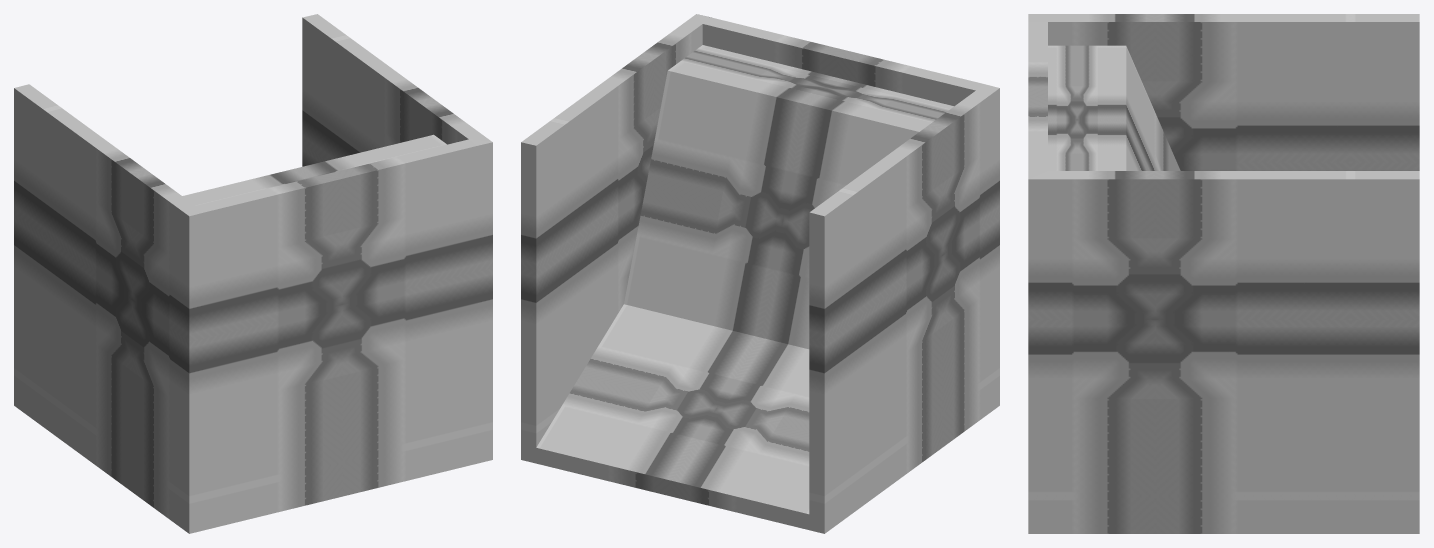
The model's file is tileStart.dae.
The picture shows the model from 3 angles, left to right: view 1: azimuth 30°, elevation 25°; view 2: azimuth 150°, elevation 25°; view 3: azimuth 270°, elevation 25°; orthographic projection. The views are drawn at different scales.
Visible parts, largest first — view 1: Cube; view 2: Cube; view 3: Cube.
Part boxes in pixels (left/top/right/bottom): Cube: left=14, top=14, right=492, bottom=533; Cube: left=521, top=14, right=999, bottom=533; Cube: left=1028, top=14, right=1419, bottom=533.
Size of the model in its own units: 2 by 2 by 2.
Materials: 1 (1 with a texture image).
